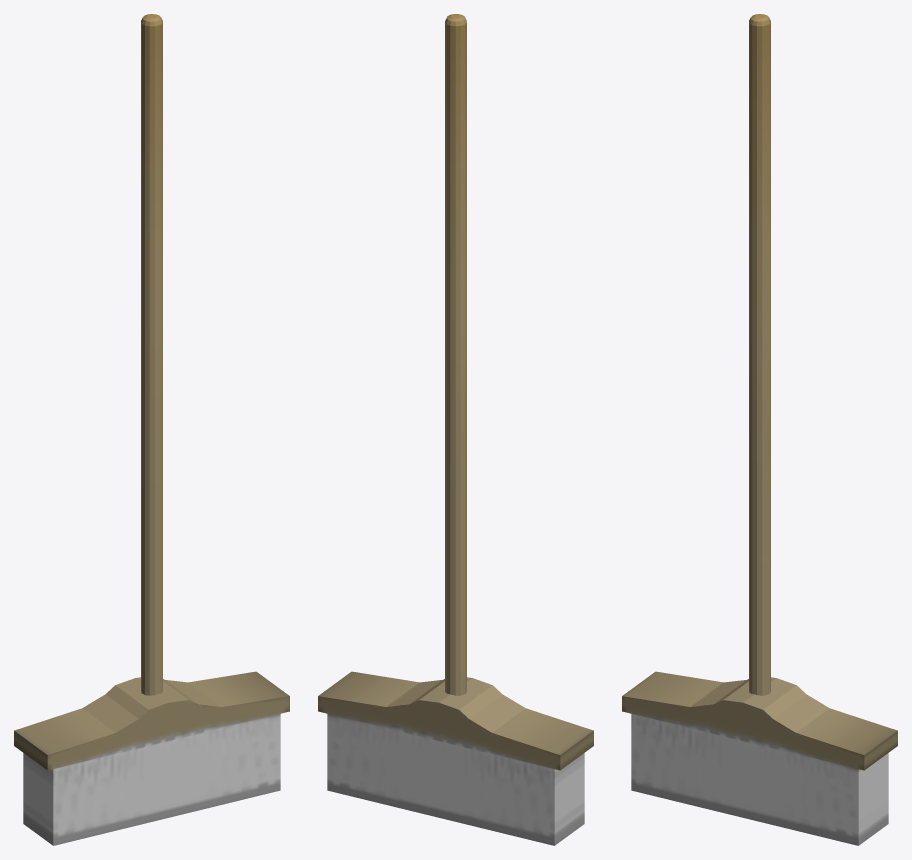
File: Brush.fbx
The picture shows the model from 3 angles, left to right: view 1: azimuth 30°, elevation 25°; view 2: azimuth 150°, elevation 25°; view 3: azimuth 330°, elevation 25°; orthographic projection.
Parts seen in each view (by area): view 1: Brush; view 2: Brush; view 3: Brush.
Part boxes in pixels (x1,y1,x2,y2): Brush: (14, 14, 289, 845); Brush: (318, 14, 593, 845); Brush: (622, 14, 897, 845).
Bounding box in the file's own units: 2.13 × 6.65 × 0.5131.
